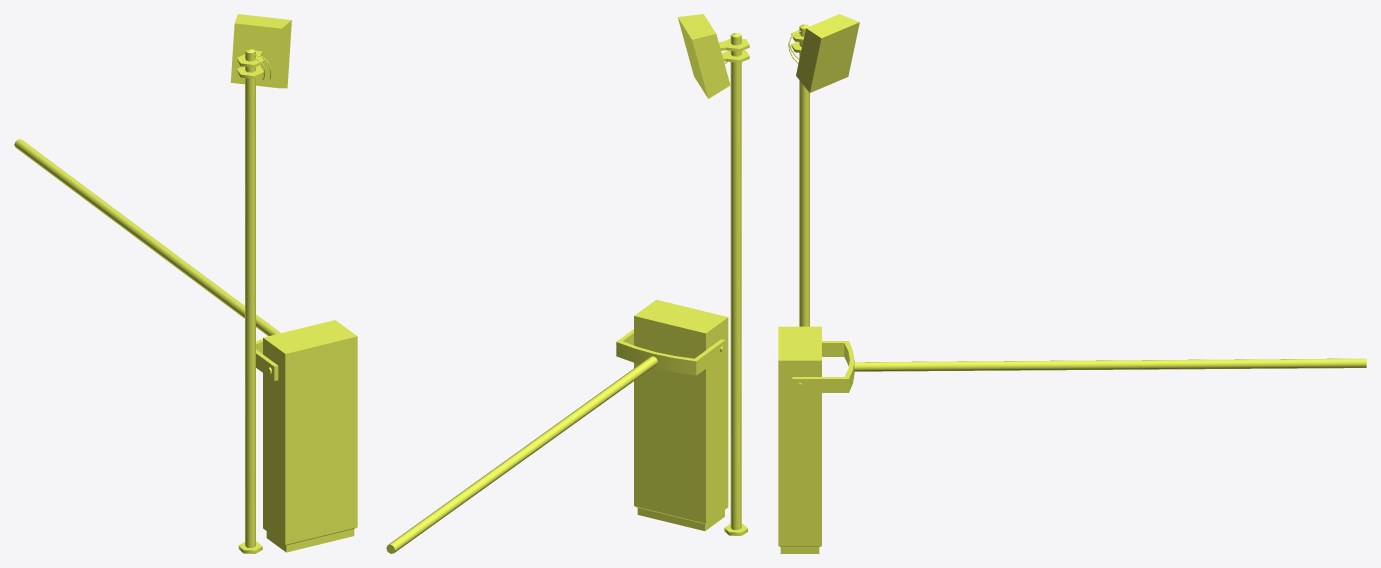
File: parking_barrier.FBX
3 renders of one model, left to right at view 1: azimuth 30°, elevation 25°; view 2: azimuth 150°, elevation 25°; view 3: azimuth 270°, elevation 25°, orthographic. The views are drawn at different scales.
Parts seen in each view (by area): view 1: parking_barrier; view 2: parking_barrier; view 3: parking_barrier.
Part boxes in pixels (box(x1,y1,x2,y2)): parking_barrier: box(14, 14, 357, 553); parking_barrier: box(386, 14, 749, 553); parking_barrier: box(778, 14, 1366, 553).
Bounding box in the file's own units: 0.7796 × 3.43 × 3.68.
